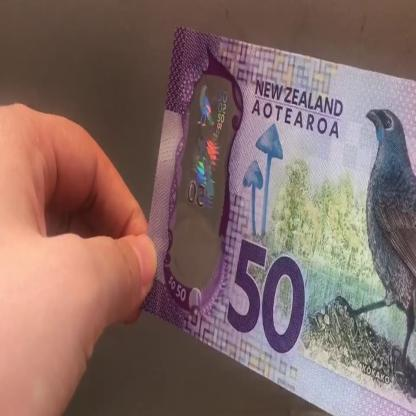50B: (180, 79, 233, 280)
